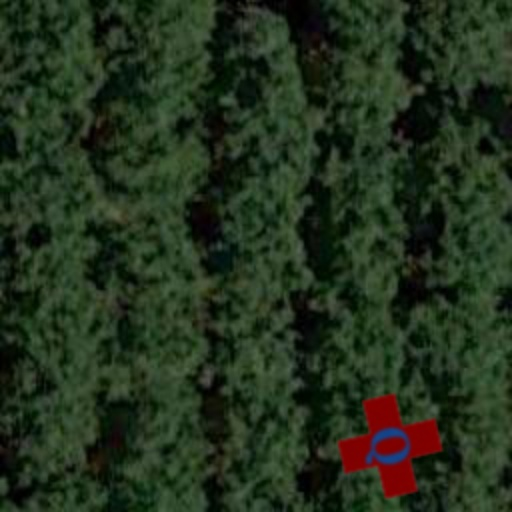cross: (328, 384, 452, 508)
